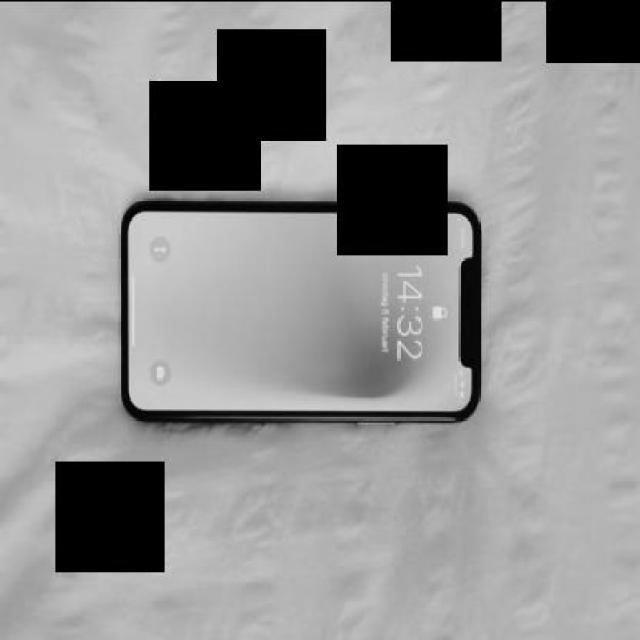fake: (121, 196, 481, 422)
